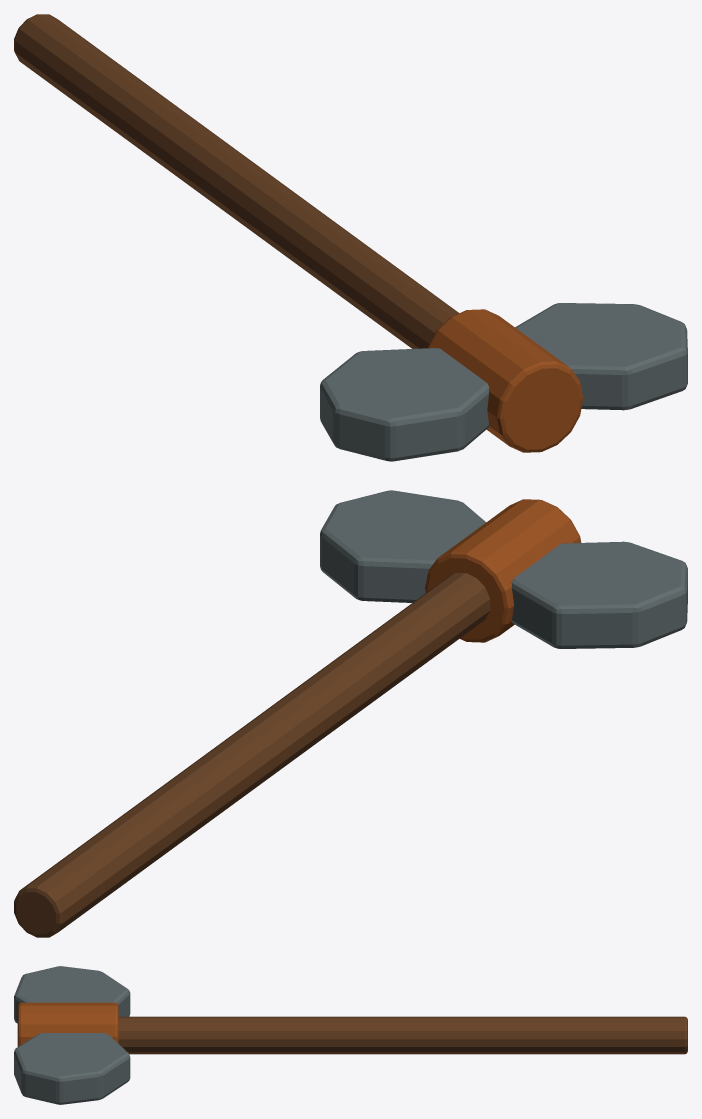
The model's file is pelekys_axe_2h_LOD1.glb.
The picture shows the model from 3 angles, top to bottom: view 1: azimuth 30°, elevation 25°; view 2: azimuth 150°, elevation 25°; view 3: azimuth 270°, elevation 25°; orthographic projection. The views are drawn at different scales.
Parts seen in each view (by area): view 1: LOD_PelekysHaft, LOD_PelekysDoubleHead, LOD_PelekysSocket; view 2: LOD_PelekysHaft, LOD_PelekysDoubleHead, LOD_PelekysSocket; view 3: LOD_PelekysHaft, LOD_PelekysDoubleHead, LOD_PelekysSocket.
Boxes of the visible parts, box(x1,y1,x2,y2) form: LOD_PelekysHaft: box(14, 14, 458, 348); LOD_PelekysDoubleHead: box(320, 303, 687, 461); LOD_PelekysSocket: box(428, 309, 583, 452); LOD_PelekysHaft: box(14, 573, 490, 937); LOD_PelekysDoubleHead: box(320, 490, 687, 648); LOD_PelekysSocket: box(425, 499, 581, 642); LOD_PelekysHaft: box(118, 1016, 687, 1054); LOD_PelekysDoubleHead: box(14, 966, 130, 1104); LOD_PelekysSocket: box(17, 1002, 118, 1046).
Size of the model in its own units: 0.6367 by 0.156 by 1.6.
